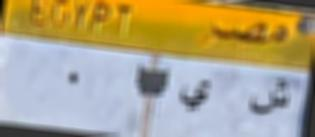0: (64, 64, 86, 85)
sheen: (248, 68, 292, 125)
yaa: (180, 75, 215, 113)
